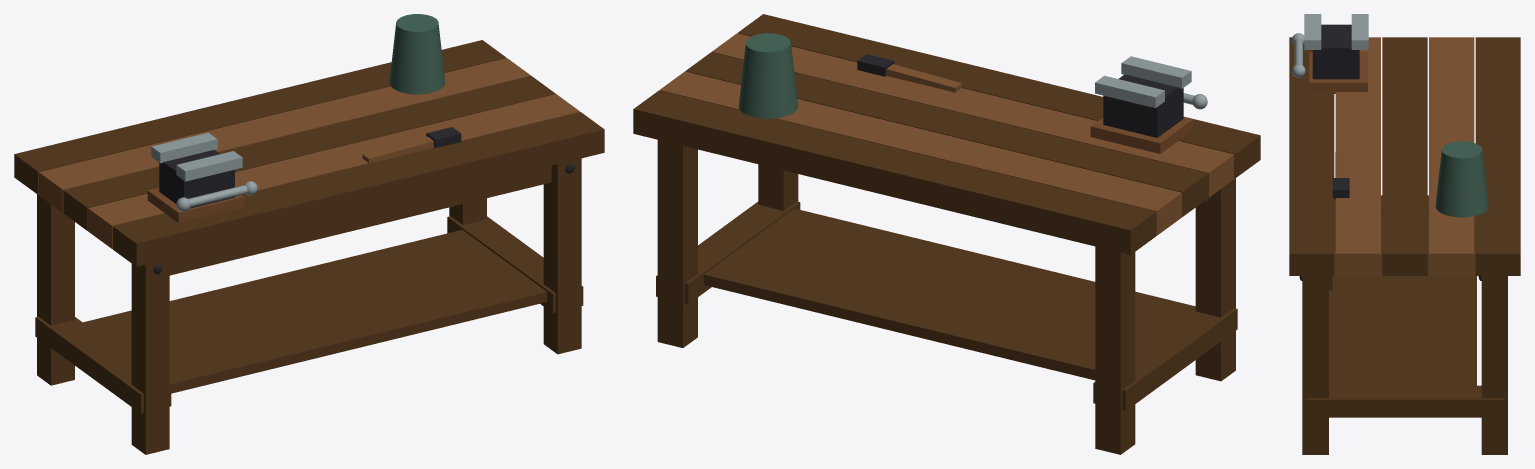
The model's file is mia-workbench.glb.
The picture shows the model from 3 angles, left to right: view 1: azimuth 30°, elevation 25°; view 2: azimuth 150°, elevation 25°; view 3: azimuth 270°, elevation 25°; orthographic projection. The views are drawn at different scales.
Visible parts, largest first — view 1: Body_wood, Body_oak, Body_sage, Body_steel, Body_iron, Body_rust; view 2: Body_wood, Body_oak, Body_sage, Body_iron, Body_steel, Body_rust; view 3: Body_wood, Body_oak, Body_sage, Body_iron, Body_steel, Body_rust.
Boxes of the visible parts, left/top/right/bottom form: Body_wood: left=14, top=40, right=604, bottom=454; Body_oak: left=39, top=58, right=579, bottom=248; Body_sage: left=389, top=14, right=445, bottom=94; Body_steel: left=151, top=132, right=257, bottom=211; Body_iron: left=153, top=127, right=574, bottom=274; Body_rust: left=147, top=187, right=244, bottom=222; Body_wood: left=633, top=14, right=1260, bottom=454; Body_oak: left=659, top=33, right=1234, bottom=235; Body_sage: left=738, top=33, right=797, bottom=118; Body_iron: left=857, top=54, right=1183, bottom=137; Body_steel: left=1095, top=56, right=1207, bottom=109; Body_rust: left=1090, top=117, right=1193, bottom=153; Body_wood: left=1289, top=37, right=1520, bottom=454; Body_oak: left=1335, top=37, right=1474, bottom=275; Body_sage: left=1435, top=141, right=1488, bottom=217; Body_iron: left=1299, top=24, right=1481, bottom=280; Body_steel: left=1292, top=14, right=1368, bottom=77; Body_rust: left=1309, top=52, right=1367, bottom=93.
Bounding box in the file's own units: 2 × 1.16 × 0.905.
